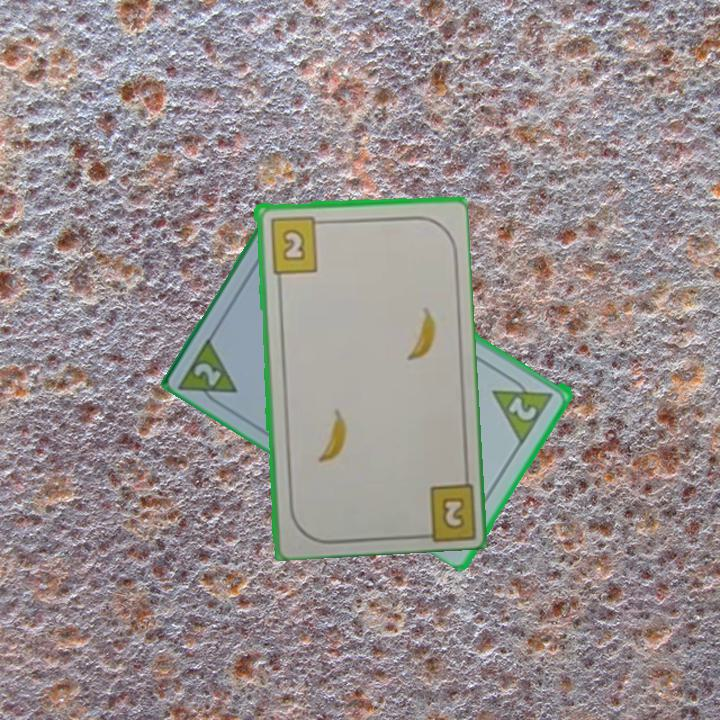2b: (266, 212, 327, 276), (438, 493, 468, 533)
2p: (505, 392, 540, 424), (190, 358, 225, 389)
